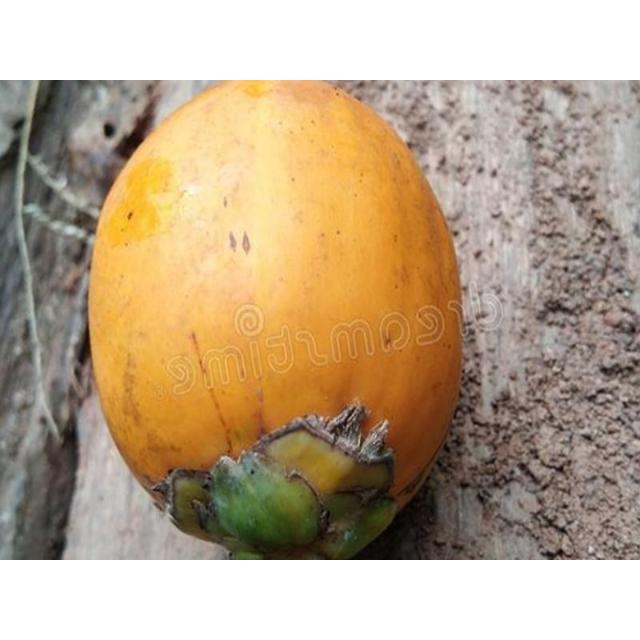good: (86, 80, 463, 559)
